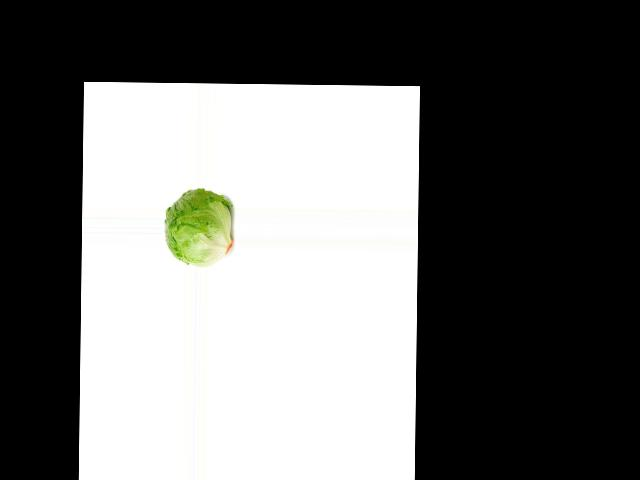lettuce: (164, 188, 231, 262)
